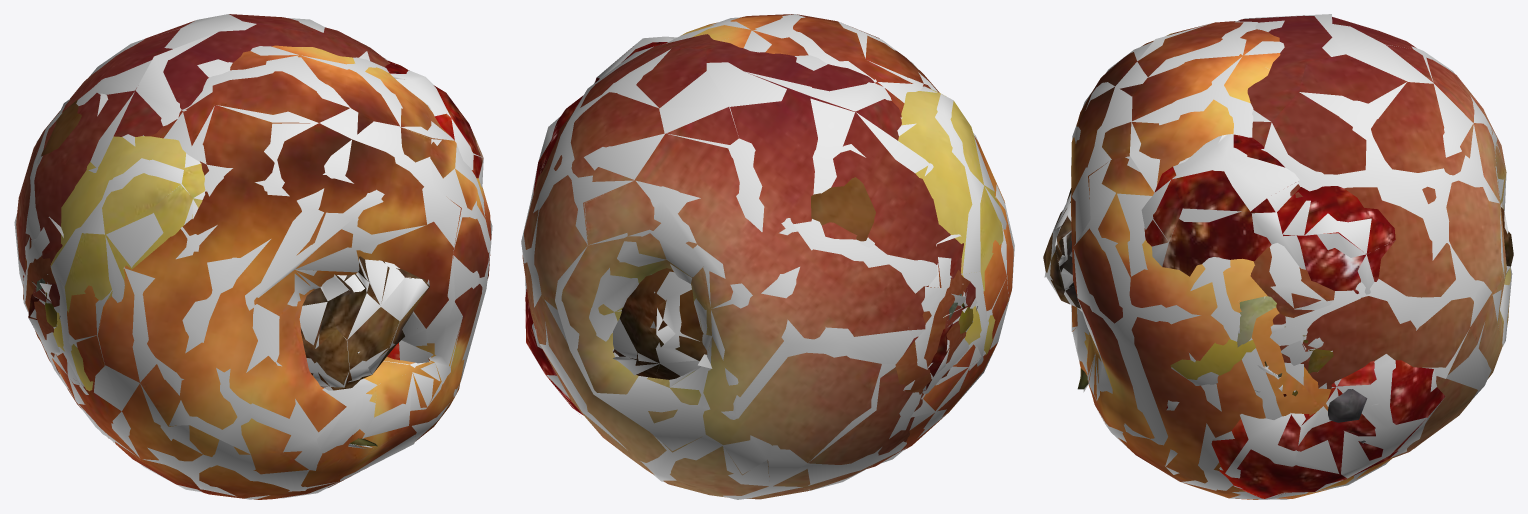
File: vegetables.glb
3 renders of one model, left to right at view 1: azimuth 30°, elevation 25°; view 2: azimuth 150°, elevation 25°; view 3: azimuth 270°, elevation 25°, orthographic.
Visible parts, largest first — view 1: Peach, Peach_wire, Apple, Tomato, Onion, Apple_wire, Tomato_wire, Onion_wire, Strawberry_wire, Strawberry, Pumpkin, Pumpkin_wire; view 2: Apple, Apple_wire, Peach, Tomato, Onion, Peach_wire, Onion_wire, Tomato_wire, Pumpkin, Strawberry, Pumpkin_wire, Strawberry_wire; view 3: Apple, Peach, Strawberry, Peach_wire, Apple_wire, Strawberry_wire, Pumpkin_wire, Onion, Pumpkin, Tomato, Onion_wire, Broccoli (+1 smaller).
Boxes of the visible parts, bbox=[...] form: Peach: bbox=[52, 45, 491, 499]; Peach_wire: bbox=[51, 46, 492, 499]; Apple: bbox=[16, 14, 390, 438]; Tomato: bbox=[50, 136, 205, 391]; Onion: bbox=[41, 99, 429, 446]; Apple_wire: bbox=[14, 14, 395, 436]; Tomato_wire: bbox=[50, 134, 205, 394]; Onion_wire: bbox=[36, 93, 429, 448]; Strawberry_wire: bbox=[28, 70, 483, 363]; Strawberry: bbox=[28, 60, 483, 360]; Pumpkin: bbox=[23, 241, 56, 357]; Pumpkin_wire: bbox=[23, 216, 63, 359]; Apple: bbox=[522, 34, 975, 499]; Apple_wire: bbox=[521, 40, 977, 499]; Peach: bbox=[681, 14, 1013, 468]; Tomato: bbox=[898, 88, 1003, 355]; Onion: bbox=[613, 177, 875, 379]; Peach_wire: bbox=[666, 14, 1014, 463]; Onion_wire: bbox=[613, 144, 874, 376]; Tomato_wire: bbox=[897, 86, 1006, 366]; Pumpkin: bbox=[895, 266, 970, 394]; Strawberry: bbox=[525, 42, 952, 415]; Pumpkin_wire: bbox=[915, 234, 968, 393]; Strawberry_wire: bbox=[525, 36, 949, 414]; Apple: bbox=[1237, 15, 1511, 457]; Peach: bbox=[1071, 21, 1394, 499]; Strawberry: bbox=[1144, 134, 1445, 498]; Peach_wire: bbox=[1071, 21, 1388, 499]; Apple_wire: bbox=[1244, 14, 1512, 457]; Strawberry_wire: bbox=[1141, 134, 1443, 498]; Pumpkin_wire: bbox=[1269, 243, 1333, 365]; Onion: bbox=[1043, 188, 1513, 389]; Pumpkin: bbox=[1250, 247, 1334, 362]; Tomato: bbox=[1167, 33, 1255, 379]; Onion_wire: bbox=[1044, 193, 1510, 392]; Broccoli: bbox=[1237, 296, 1276, 347].
Size of the model in its own units: 1.01 by 1 by 1.
10 materials, 10 textured.
